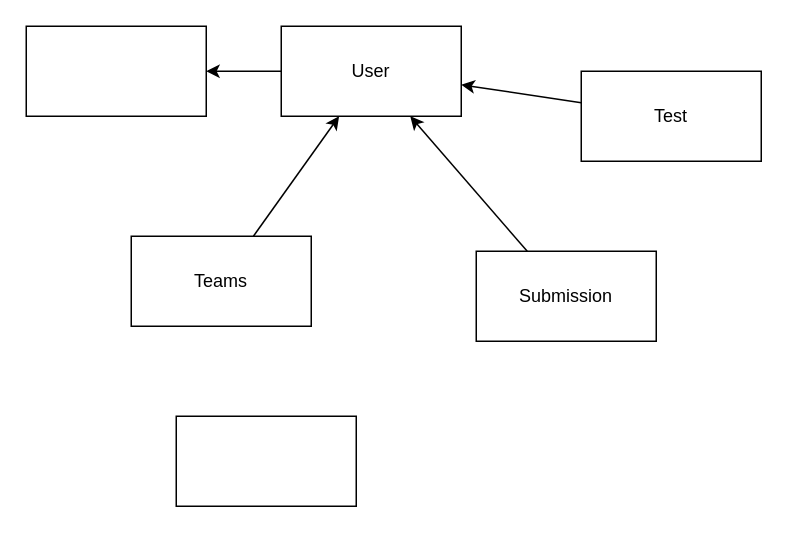
This 788x533 diagram has some shape labels left out. Here are the shapes that lost their labels. From the top down, the box of each, then its label:
(25, 25, 206, 116): Authorization
(175, 415, 356, 506): Content
